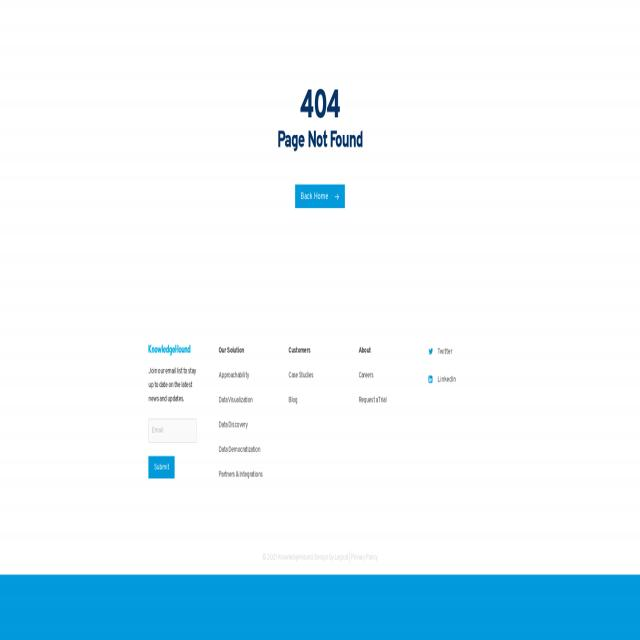button: (295, 184, 345, 208), (148, 456, 174, 478), (149, 344, 191, 355)
field: (148, 418, 196, 443)
